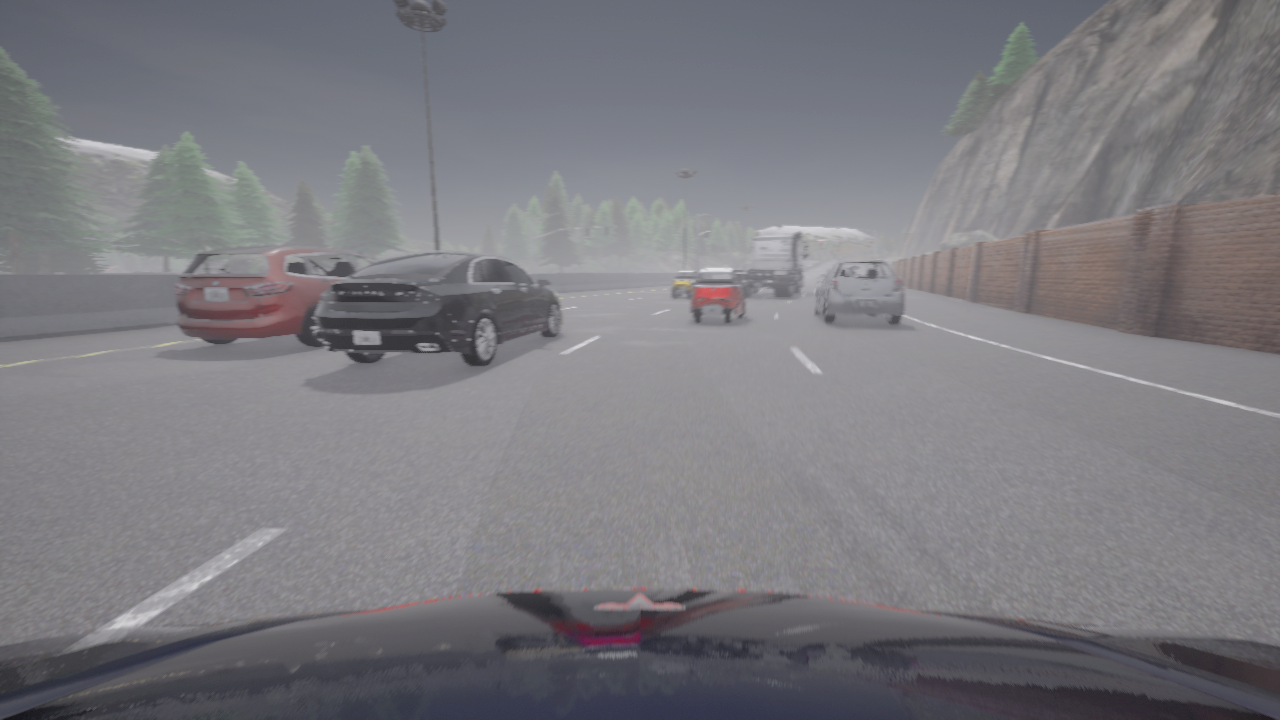cyclist: (0, 588, 1279, 719), (316, 251, 561, 366), (174, 245, 376, 346), (815, 260, 903, 324), (735, 232, 808, 297), (691, 266, 746, 323), (672, 270, 698, 298), (821, 268, 830, 280)
